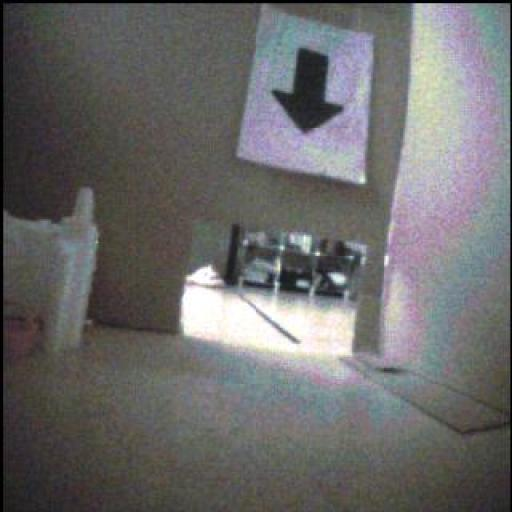arrow: (273, 49, 343, 134)
